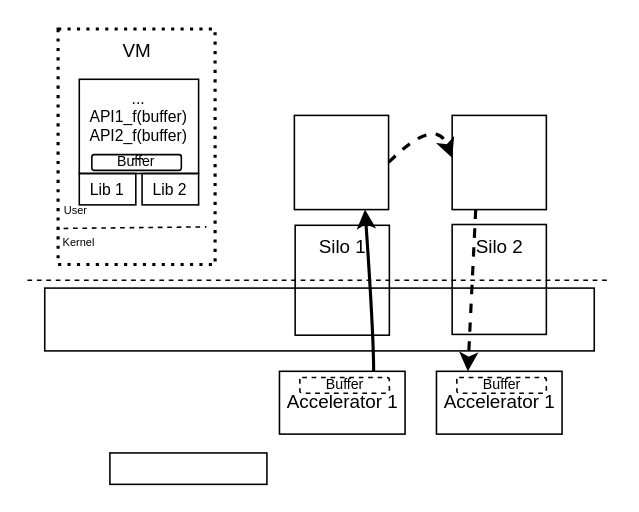
This 639x512 diagram has some shape labels left out. Here are the shapes that lost their labels. From the top down, the centre of each, then its label:
At point 341,162: "API Server 1".
At point 498,162: "API Server 2".
At point 318,319: "Hypervisor".
At point 187,467: "Buffer Manager".
